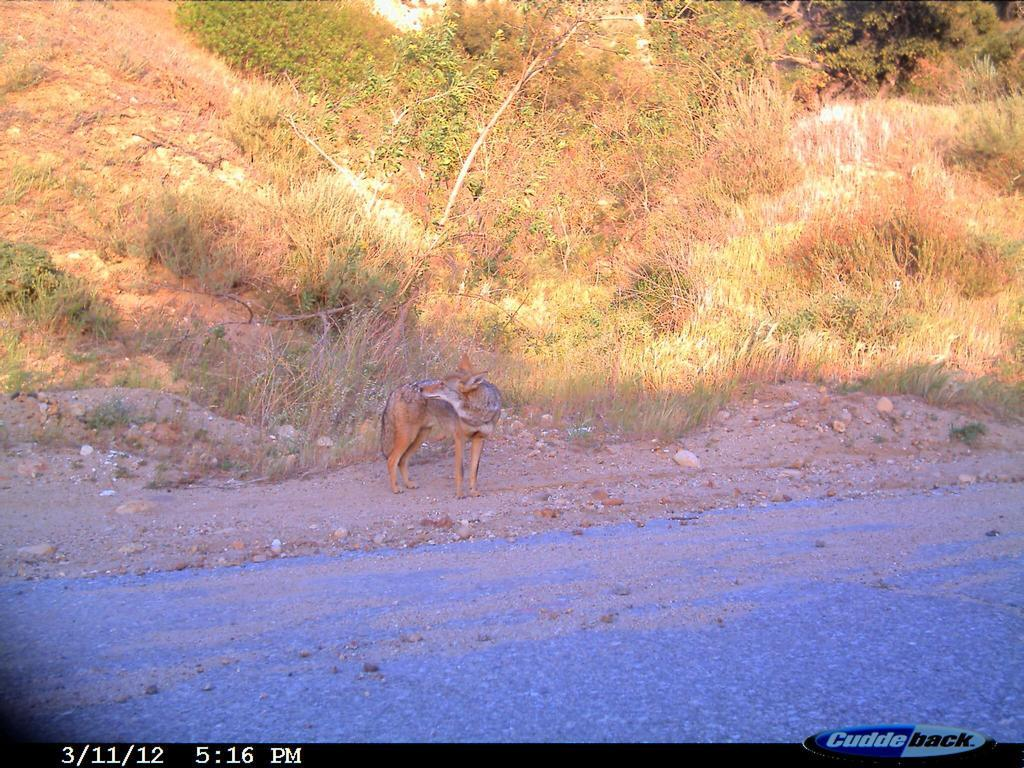coyote: (373, 346, 515, 510)
